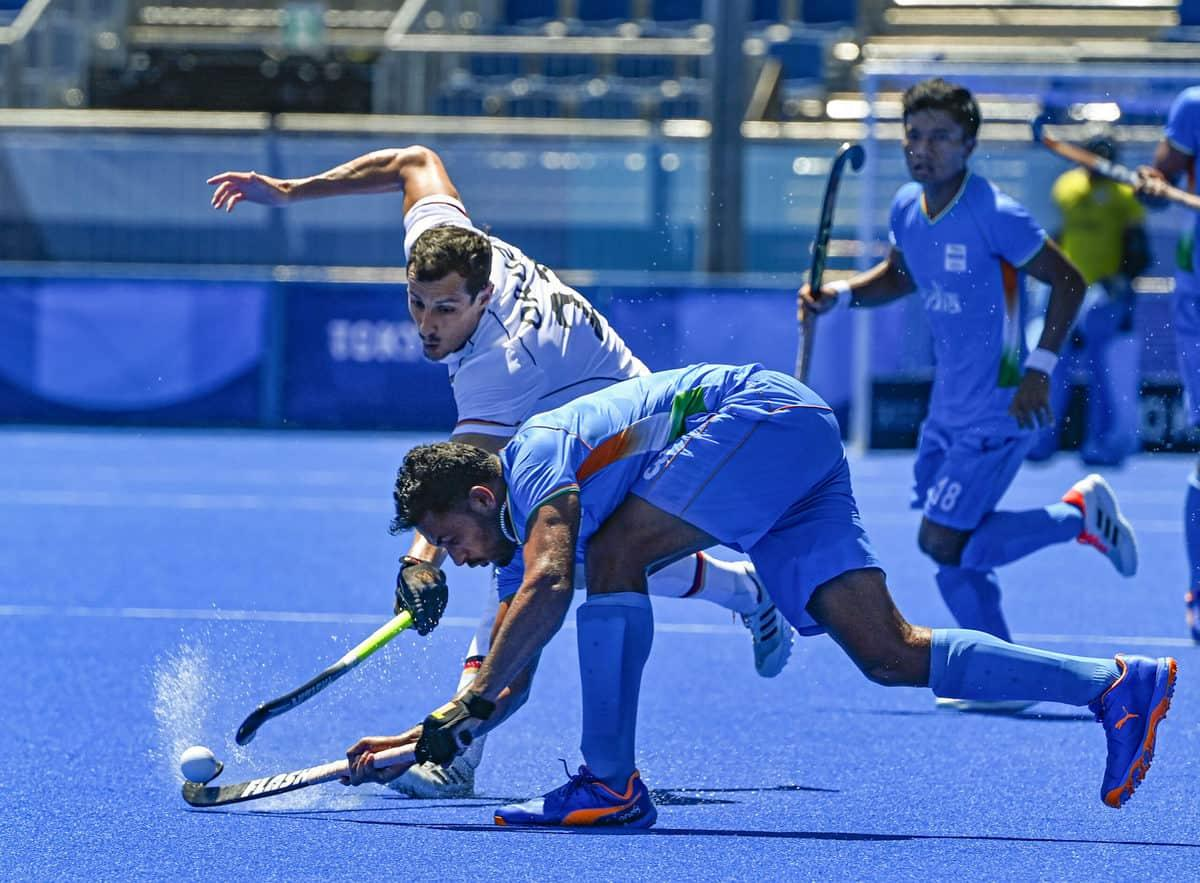ball: (162, 742, 257, 801)
